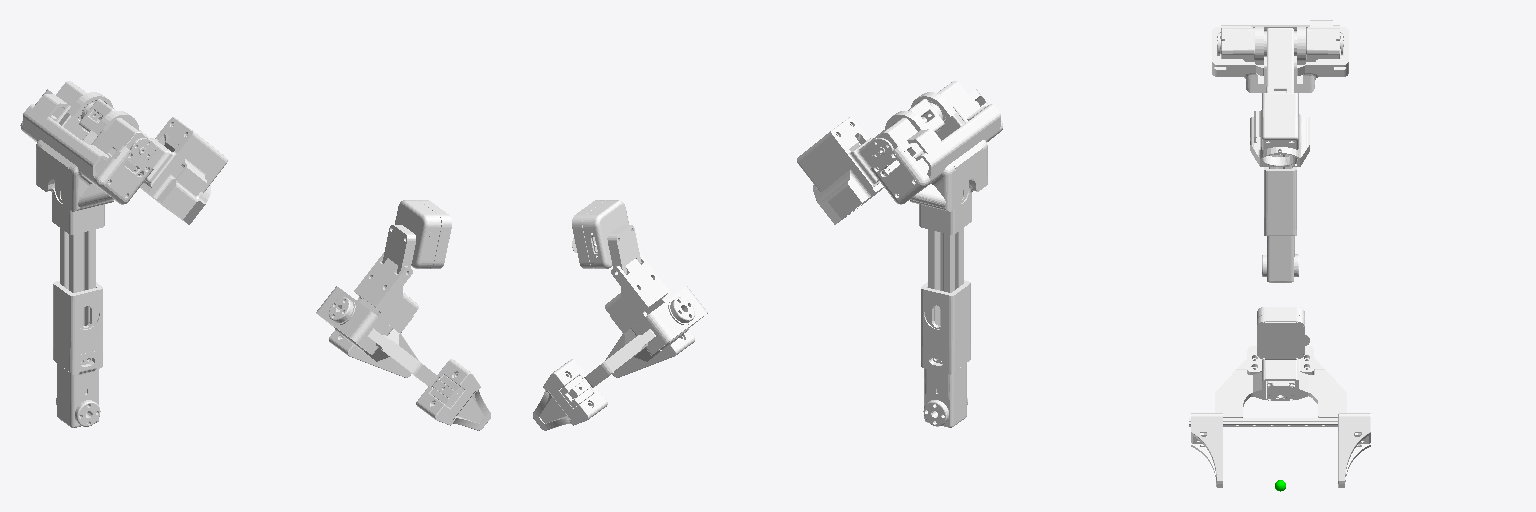
The robot description file, URDF, robot "Alicia_D_v5_5_gripper_100mm":
<?xml version="1.0" encoding="utf-8"?>
<robot name="Alicia_D_v5_5_gripper_100mm">
  <mujoco>
    <compiler meshdir="../../meshes/Alicia_D_v5_5" discardvisual="false" />
    <contact>
      <exclude body1="base_link" body2="Link1"/>
      <exclude body1="Link1" body2="Link2"/>
      <exclude body1="Link2" body2="Link3"/>
      <exclude body1="Link3" body2="Link4"/>
      <exclude body1="Link4" body2="Link5"/>
      <exclude body1="Link5" body2="Link6"/>
      <exclude body1="Link6" body2="Link7"/>
      <exclude body1="Link6" body2="Link8"/>
    </contact>
  </mujoco>
  <link
    name="base_link">
    <visual>
      <origin
        xyz="0 0 0"
        rpy="0 0 0" />
      <geometry>
        <mesh
          filename="package://alicia_d_descriptions/meshes/Alicia_D_v5_5/base_link.STL" />
      </geometry>
      <material
        name="">
        <color
          rgba="1 1 1 1" />
      </material>
    </visual>
    <collision>
      <origin
        xyz="0 0 0"
        rpy="0 0 0" />
      <geometry>
        <mesh
          filename="package://alicia_d_descriptions/meshes/Alicia_D_v5_5/base_link.STL" />
      </geometry>
    </collision>
  </link>
  <link
    name="Link1">
    <inertial>
      <origin
        xyz="-0.000232391087694535 -1.30049454546467E-05 0.00272122513752755"
        rpy="0 0 0" />
      <mass
        value="0.193725361315237" />
      <inertia
        ixx="0.000258312653055438"
        ixy="8.79363230651008E-07"
        ixz="-6.87511809706199E-07"
        iyy="0.000149233685494123"
        iyz="-1.07703111237371E-06"
        izz="0.000339752801671385" />
    </inertial>
    <visual>
      <origin
        xyz="0 0 0"
        rpy="0 0 0" />
      <geometry>
        <mesh
          filename="package://alicia_d_descriptions/meshes/Alicia_D_v5_5/Link1.STL" />
      </geometry>
      <material
        name="">
        <color
          rgba="1 1 1 1" />
      </material>
    </visual>
    <collision>
      <origin
        xyz="0 0 0"
        rpy="0 0 0" />
      <geometry>
        <mesh
          filename="package://alicia_d_descriptions/meshes/Alicia_D_v5_5/Link1.STL" />
      </geometry>
    </collision>
  </link>
  <joint
    name="Joint1"
    type="revolute">
    <origin
      xyz="0 0 0.1295"
      rpy="0 0 0" />
    <parent
      link="base_link" />
    <child
      link="Link1" />
    <axis
      xyz="0 0 1" />
    <limit
      lower="-2.16"
      upper="2.16"
      effort="12"
      velocity="5" />
  </joint>
  <link
    name="Link2">
    <inertial>
      <origin
        xyz="0.149948141017768 -0.00073733103436536 -0.000614552702572041"
        rpy="0 0 0" />
      <mass
        value="0.216765318032361" />
      <inertia
        ixx="0.00012827957403101"
        ixy="-1.18676813578654E-07"
        ixz="-1.68171130903575E-06"
        iyy="0.000226231611908606"
        iyz="-3.50051091633141E-07"
        izz="0.000143215063853149" />
    </inertial>
    <visual>
      <origin
        xyz="0 0 0"
        rpy="0 0 0" />
      <geometry>
        <mesh
          filename="package://alicia_d_descriptions/meshes/Alicia_D_v5_5/Link2.STL" />
      </geometry>
      <material
        name="">
        <color
          rgba="1 1 1 1" />
      </material>
    </visual>
    <collision>
      <origin
        xyz="0 0 0"
        rpy="0 0 0" />
      <geometry>
        <mesh
          filename="package://alicia_d_descriptions/meshes/Alicia_D_v5_5/Link2.STL" />
      </geometry>
    </collision>
  </link>
  <joint
    name="Joint2"
    type="revolute">
    <origin
      xyz="0 -5E-05 0.04287"
      rpy="1.5708 -1.5708 0" />
    <parent
      link="Link1" />
    <child
      link="Link2" />
    <axis
      xyz="0 0 1" />
    <limit
      lower="-1.57"
      upper="1.57"
      effort="12"
      velocity="5" />
  </joint>
  <link
    name="Link3">
    <inertial>
      <origin
        xyz="0.055786319810667 0.00248143782929366 0.000269720725052352"
        rpy="0 0 0" />
      <mass
        value="0.0845575681430802" />
      <inertia
        ixx="2.87941478239851E-05"
        ixy="-2.26498116289353E-06"
        ixz="-5.38445390787684E-06"
        iyy="7.61918370068424E-05"
        iyz="-3.82299515503286E-07"
        izz="8.043706644056E-05" />
    </inertial>
    <visual>
      <origin
        xyz="0 0 0"
        rpy="0 0 0" />
      <geometry>
        <mesh
          filename="package://alicia_d_descriptions/meshes/Alicia_D_v5_5/Link3.STL" />
      </geometry>
      <material
        name="">
        <color
          rgba="1 1 1 1" />
      </material>
    </visual>
    <collision>
      <origin
        xyz="0 0 0"
        rpy="0 0 0" />
      <geometry>
        <mesh
          filename="package://alicia_d_descriptions/meshes/Alicia_D_v5_5/Link3.STL" />
      </geometry>
    </collision>
  </link>
  <joint
    name="Joint3"
    type="revolute">
    <origin
      xyz="0.22367 -0.022592 0"
      rpy="0 0 -2.3562" />
    <parent
      link="Link2" />
    <child
      link="Link3" />
    <axis
      xyz="0 0 1" />
    <limit
      lower="-0.5"
      upper="2.35619"
      effort="12"
      velocity="5" />
  </joint>
  <link
    name="Link4">
    <inertial>
      <origin
        xyz="0.000298365504501796 -0.000601368925849056 0.0663740391896737"
        rpy="0 0 0" />
      <mass
        value="0.0653695953286747" />
      <inertia
        ixx="7.03004188086337E-05"
        ixy="-9.68417851161416E-09"
        ixz="-7.50131707418093E-07"
        iyy="6.8747029788813E-05"
        iyz="4.45271906086873E-08"
        izz="1.68226189350765E-05" />
    </inertial>
    <visual>
      <origin
        xyz="0 0 0"
        rpy="0 0 0" />
      <geometry>
        <mesh
          filename="package://alicia_d_descriptions/meshes/Alicia_D_v5_5/Link4.STL" />
      </geometry>
      <material
        name="">
        <color
          rgba="1 1 1 1" />
      </material>
    </visual>
    <collision>
      <origin
        xyz="0 0 0"
        rpy="0 0 0" />
      <geometry>
        <mesh
          filename="package://alicia_d_descriptions/meshes/Alicia_D_v5_5/Link4.STL" />
      </geometry>
    </collision>
  </link>
  <joint
    name="Joint4"
    type="revolute">
    <origin
      xyz="0.0986 -0.00211 0.0002"
      rpy="-1.5708 0 -1.5708" />
    <parent
      link="Link3" />
    <child
      link="Link4" />
    <axis
      xyz="0 0 -1" />
    <limit
      lower="-3.14"
      upper="3.14"
      effort="12"
      velocity="5" />
  </joint>
  <link
    name="Link5">
    <inertial>
      <origin
        xyz="-0.0110961410990681 0.0308024762289942 -0.000207575403674642"
        rpy="0 0 0" />
      <mass
        value="0.0463941316397046" />
      <inertia
        ixx="1.8425786696003E-05"
        ixy="2.02919305442313E-06"
        ixz="-5.09341788606234E-08"
        iyy="2.39811947218569E-05"
        iyz="-4.22854804621873E-08"
        izz="1.63952567717743E-05" />
    </inertial>
    <visual>
      <origin
        xyz="0 0 0"
        rpy="0 0 0" />
      <geometry>
        <mesh
          filename="package://alicia_d_descriptions/meshes/Alicia_D_v5_5/Link5.STL" />
      </geometry>
      <material
        name="">
        <color
          rgba="1 1 1 1" />
      </material>
    </visual>
    <collision>
      <origin
        xyz="0 0 0"
        rpy="0 0 0" />
      <geometry>
        <mesh
          filename="package://alicia_d_descriptions/meshes/Alicia_D_v5_5/Link5.STL" />
      </geometry>
    </collision>
  </link>
  <joint
    name="Joint5"
    type="revolute">
    <origin
      xyz="0 0.00015 0.12275"
      rpy="1.5708 0 0" />
    <parent
      link="Link4" />
    <child
      link="Link5" />
    <axis
      xyz="0 0 1" />
    <limit
      lower="-1.57"
      upper="1.57"
      effort="12"
      velocity="5" />
  </joint>
  <link
    name="Link6">
    <inertial>
      <origin
        xyz="-3.11347120307559E-09 6.19962735608128E-10 -0.00146275616399921"
        rpy="0 0 0" />
      <mass
        value="0.000754053623586768" />
      <inertia
        ixx="1.9236769291339E-08"
        ixy="9.19452445636026E-14"
        ixz="3.52333012571258E-15"
        iyy="1.92358360258478E-08"
        iyz="-3.901270498029E-17"
        izz="3.70123450485896E-08" />
    </inertial>
    <visual>
      <origin
        xyz="0 0 0"
        rpy="0 0 0" />
      <geometry>
        <mesh
          filename="package://alicia_d_descriptions/meshes/Alicia_D_v5_5/Link6.STL" />
      </geometry>
      <material
        name="">
        <color
          rgba="1 1 1 1" />
      </material>
    </visual>
    <collision>
      <origin
        xyz="0 0 0"
        rpy="0 0 0" />
      <geometry>
        <mesh
          filename="package://alicia_d_descriptions/meshes/Alicia_D_v5_5/Link6.STL" />
      </geometry>
    </collision>
  </link>
  <joint
    name="Joint6"
    type="revolute">
    <origin
      xyz="-0.00385 0.0573 -0.00035"
      rpy="-1.5708 0 0" />
    <parent
      link="Link5" />
    <child
      link="Link6" />
    <axis
      xyz="0 0 -1" />
    <limit
      lower="-3.14"
      upper="3.14"
      effort="12"
      velocity="5" />
  </joint>
  <link
    name="Grasp_base">
    <inertial>
      <origin
        xyz="-0.0321082111389046 -0.000168822009778203 0.0275474621634362"
        rpy="0 0 0" />
      <mass
        value="0.119820573147005" />
      <inertia
        ixx="8.23026483118452E-05"
        ixy="2.1627287972411E-08"
        ixz="-6.37078693697654E-06"
        iyy="3.33372461482565E-05"
        iyz="2.3095070932307E-08"
        izz="8.59654133961544E-05" />
    </inertial>
    <visual>
      <origin
        xyz="0 0 0"
        rpy="0 0 0" />
      <geometry>
        <mesh
          filename="package://alicia_d_descriptions/meshes/Alicia_D_v5_5/Grasp_base.STL" />
      </geometry>
      <material
        name="">
        <color
          rgba="1 1 1 1" />
      </material>
    </visual>
    <collision>
      <origin
        xyz="0 0 0"
        rpy="0 0 0" />
      <geometry>
        <mesh
          filename="package://alicia_d_descriptions/meshes/Alicia_D_v5_5/Grasp_base.STL" />
      </geometry>
    </collision>
  </link>
  <joint
    name="Joint6_to_gripper_base"
    type="fixed">
    <origin
      xyz="0 0 0"
      rpy="0 0 0" />
    <parent
      link="Link6" />
    <child
      link="Grasp_base" />
    <axis
      xyz="0 0 0" />
  </joint>
  <link
    name="Link7">
    <inertial>
      <origin
        xyz="2.97087521250461E-08 0.0434087591943518 0.0106596716155943"
        rpy="0 0 0" />
      <mass
        value="0.0256461121677861" />
      <inertia
        ixx="6.46830326573767E-06"
        ixy="2.39543799544883E-11"
        ixz="-4.63721293861409E-12"
        iyy="5.13428741941794E-06"
        iyz="-1.26432048814187E-06"
        izz="8.03606347912567E-06" />
    </inertial>
    <visual>
      <origin
        xyz="0 0 0"
        rpy="0 0 0" />
      <geometry>
        <mesh
          filename="package://alicia_d_descriptions/meshes/Alicia_D_v5_5/Link7.STL" />
      </geometry>
      <material
        name="">
        <color
          rgba="1 1 1 1" />
      </material>
    </visual>
    <collision>
      <origin
        xyz="0 0 0"
        rpy="0 0 0" />
      <geometry>
        <mesh
          filename="package://alicia_d_descriptions/meshes/Alicia_D_v5_5/Link7.STL" />
      </geometry>
    </collision>
  </link>
  <joint
    name="left_finger"
    type="prismatic">
    <origin
      xyz="-0.0002 0.050502 0.13118"
      rpy="-1.5708 0 0" />
    <parent
      link="Grasp_base" />
    <child
      link="Link7" />
    <axis
      xyz="0 0 1" />
    <limit
      lower="-0.05"
      upper="0"
      effort="5"
      velocity="10" />
    <mimic joint="right_finger" multiplier="-1" offset="0"/>
  </joint>


  <link
    name="Link8">
    <inertial>
      <origin
        xyz="-2.97087521250461E-08 -0.0434087591943727 0.0106596716155944"
        rpy="0 0 0" />
      <mass
        value="0.025646112167786" />
      <inertia
        ixx="6.46830326573761E-06"
        ixy="2.39543799589352E-11"
        ixz="4.63721294819601E-12"
        iyy="5.13428741941793E-06"
        iyz="1.26432048814186E-06"
        izz="8.03606347912559E-06" />
    </inertial>
    <visual>
      <origin
        xyz="0 0 0"
        rpy="0 0 0" />
      <geometry>
        <mesh
          filename="package://alicia_d_descriptions/meshes/Alicia_D_v5_5/Link8.STL" />
      </geometry>
      <material
        name="">
        <color
          rgba="1 1 1 1" />
      </material>
    </visual>
    <collision>
      <origin
        xyz="0 0 0"
        rpy="0 0 0" />
      <geometry>
        <mesh
          filename="package://alicia_d_descriptions/meshes/Alicia_D_v5_5/Link8.STL" />
      </geometry>
    </collision>
  </link>
  <joint
    name="right_finger"
    type="prismatic">
    <origin
      xyz="-0.0002 -0.050498 0.13118"
      rpy="1.5708 0 0" />
    <parent
      link="Grasp_base" />
    <child
      link="Link8" />
    <axis
      xyz="0 0 -1" />
    <limit
      lower="0"
      upper="0.05"
      effort="5"
      velocity="10" />
  </joint>
  <link
    name="tool0">
    <visual>
      <origin
        xyz="0 0 0"
        rpy="0 0 0" />
      <geometry>
        <sphere radius="0.005" /> <!-- 定义一个半径为0.02米的小球体 -->
      </geometry>
      <material
        name="green_virtual_sphere_material"> <!-- 可以给材质起个名字 -->
        <color
          rgba="0 1 0 1" /> <!-- 绿色 (R G B A)，A为1表示不透明 -->
      </material>
    </visual>
  </link>
  <joint
    name="Grasp2tool"
    type="fixed">
    <origin
      xyz="-0.0002 -0.0003 0.13118"
      rpy="0 0 0" />
    <parent
      link="Grasp_base" />
    <child
      link="tool0" />
    <axis
      xyz="0 0 0" />
  </joint>
</robot>

--- Facts derived from the render (not from the file) ---
Views: 3 orthographic renders of the robot side by side, from view 1: azimuth 30°, elevation 25°; view 2: azimuth 150°, elevation 25°; view 3: azimuth 270°, elevation 25°.
Robot: Alicia_D_v5_5_gripper_100mm — 11 links, 10 joints (6 revolute, 2 prismatic, 2 fixed); root link base_link; default pose: all joints at 0.
Visible links, largest first — view 1: Link2, Grasp_base, Link3, Link8, Link7; view 2: Link2, Grasp_base, Link3, Link7, Link8; view 3: Link2, Grasp_base, Link3, Link7, Link8.
Link boxes in pixels (x1,y1,x2,y2): Link2: (20,81,155,427); Grasp_base: (316,200,458,401); Link3: (79,99,227,224); Link8: (416,359,490,430); Link7: (329,330,418,377); Link2: (868,81,1002,427); Grasp_base: (568,200,707,398); Link3: (797,99,944,224); Link7: (533,359,607,430); Link8: (605,330,694,377); Link2: (1212,20,1348,282); Grasp_base: (1189,307,1346,426); Link3: (1250,28,1309,167); Link7: (1338,413,1370,487); Link8: (1191,413,1222,487).
Bounding box of the posed robot: 0.3388 × 0.1586 × 0.3094 m (x, y, z).
5 mesh visuals loaded from 10 distinct referenced files (5 binary STL); not drawn: 5 (reference not matched to a file when rendering).
